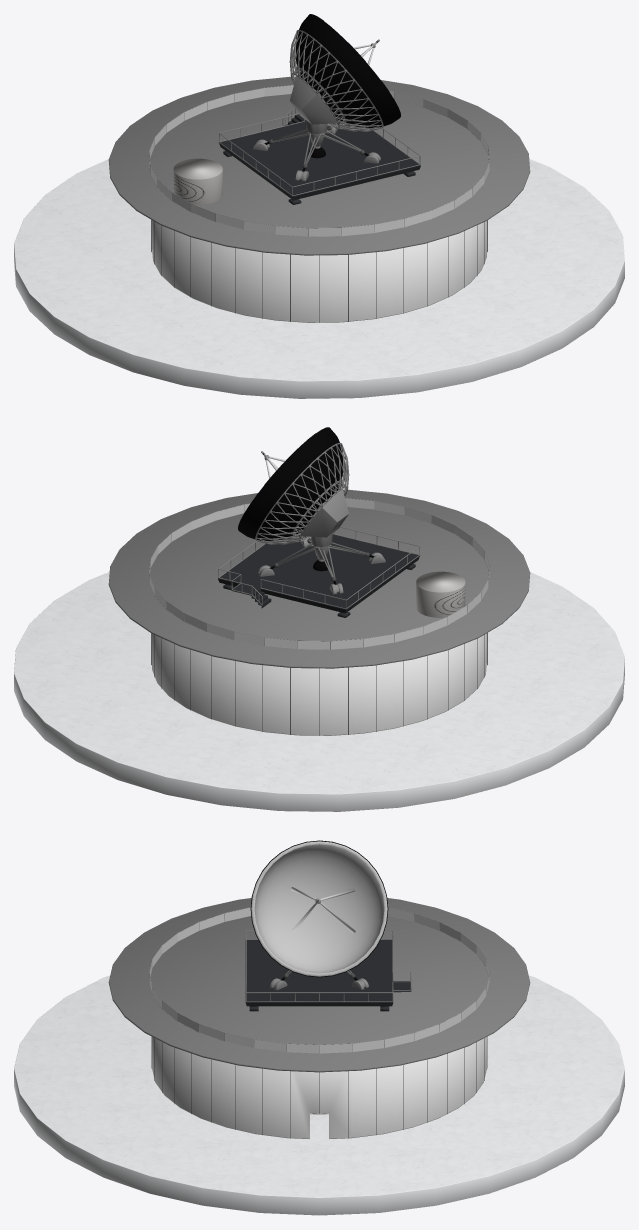
The model's file is Braodcast Center_v2.fbx.
3 renders of one model, top to bottom at view 1: azimuth 30°, elevation 25°; view 2: azimuth 150°, elevation 25°; view 3: azimuth 270°, elevation 25°, orthographic.
Parts seen in each view (by area): view 1: 바닥, 옥상바닥, 외벽, Cube.001, 안테나.001, 옥상바닥.002, Cylinder.003, Cylinder.009, 옥상바닥.001, Vert, Cube, Cylinder.008 (+1 smaller); view 2: 바닥, 옥상바닥, 외벽, Cube.001, 안테나.001, 옥상바닥.002, Cylinder.003, Cylinder.009, 옥상바닥.001, Vert, Cube, Cylinder.008 (+1 smaller); view 3: 바닥, 옥상바닥, 외벽, 안테나, Cube.001, 옥상바닥.002, 옥상바닥.001, Cylinder.014, Vert, 안테나.001.
Part boxes in pixels (bbox=[...]): 바닥: bbox=[14, 159, 624, 398]; 옥상바닥: bbox=[108, 76, 530, 255]; 외벽: bbox=[152, 220, 486, 322]; Cube.001: bbox=[218, 114, 420, 200]; 안테나.001: bbox=[295, 14, 400, 127]; 옥상바닥.002: bbox=[149, 85, 489, 236]; Cylinder.003: bbox=[289, 29, 383, 131]; Cylinder.009: bbox=[173, 158, 222, 204]; 옥상바닥.001: bbox=[149, 85, 489, 236]; Vert: bbox=[219, 107, 420, 196]; Cube: bbox=[290, 76, 337, 124]; Cylinder.008: bbox=[253, 123, 380, 181]; 바닥: bbox=[14, 572, 624, 811]; 옥상바닥: bbox=[108, 489, 530, 668]; 외벽: bbox=[152, 633, 486, 735]; Cube.001: bbox=[218, 534, 420, 613]; 안테나.001: bbox=[238, 427, 343, 540]; 옥상바닥.002: bbox=[149, 498, 489, 649]; Cylinder.003: bbox=[255, 442, 349, 544]; Cylinder.009: bbox=[416, 571, 465, 617]; 옥상바닥.001: bbox=[149, 498, 489, 649]; Vert: bbox=[218, 526, 419, 609]; Cube: bbox=[301, 489, 348, 537]; Cylinder.008: bbox=[258, 536, 385, 594]; 바닥: bbox=[14, 975, 624, 1215]; 옥상바닥: bbox=[108, 898, 530, 1072]; 외벽: bbox=[152, 1037, 486, 1138]; 안테나: bbox=[251, 841, 387, 976]; Cube.001: bbox=[245, 940, 411, 1006]; 옥상바닥.002: bbox=[149, 907, 489, 1053]; 옥상바닥.001: bbox=[149, 907, 489, 1053]; Cylinder.014: bbox=[151, 1037, 487, 1138]; Vert: bbox=[246, 930, 411, 1001]; 안테나.001: bbox=[250, 840, 388, 977].
Size of the model in its own units: 8794 by 3939 by 8794.
Materials: 20 (2 with a texture image).
